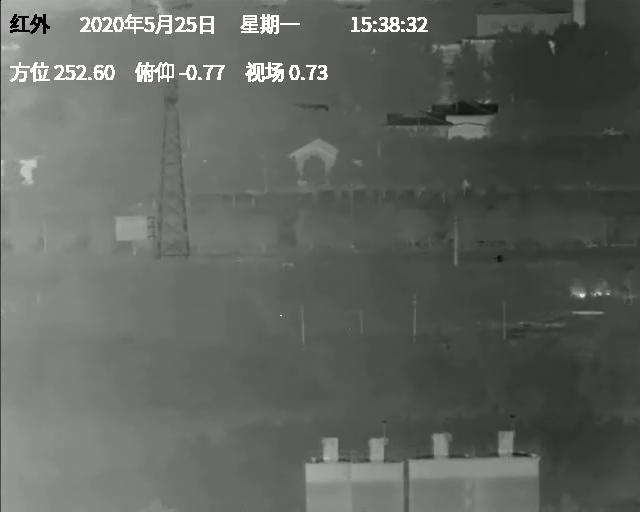uav: (349, 242, 357, 251)
